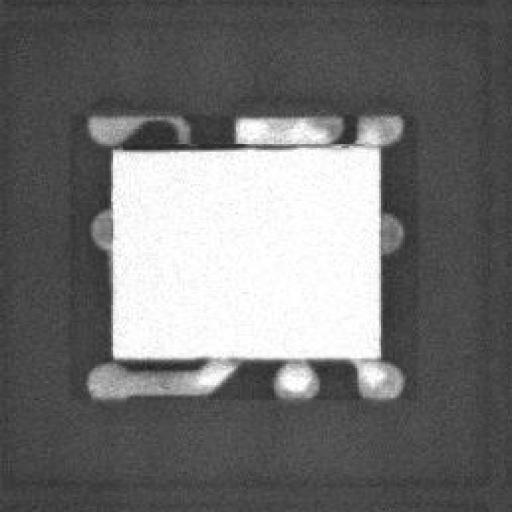DIE_BROKEN: (115, 136, 300, 150)
